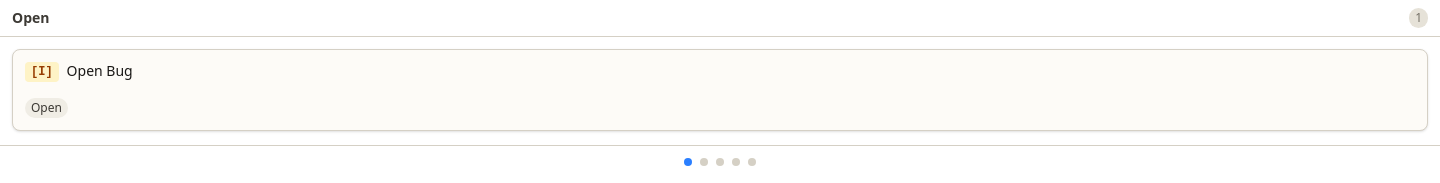
MobileKanbanBoard › swipe navigation › should navigate to next column on left swipe
expect the text "Open Bug" is shown: met, box x1=67 y1=61 x2=133 y2=80
Press the mouse on the text "Open Bug" at x=720, y=72, box x1=0 y1=0 x2=1439 y2=145
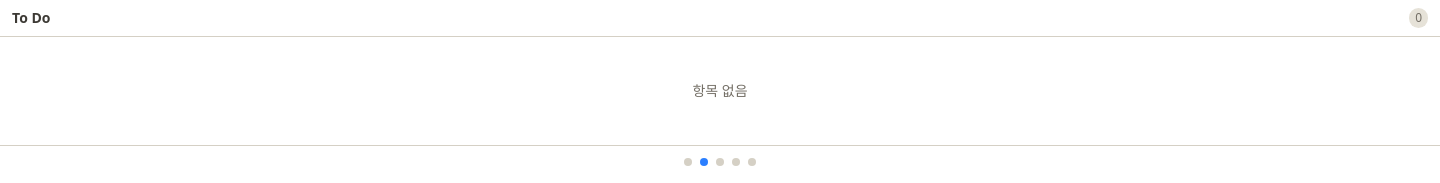
expect the text "To Do" is shown: met, box x1=12 y1=8 x2=50 y2=28
